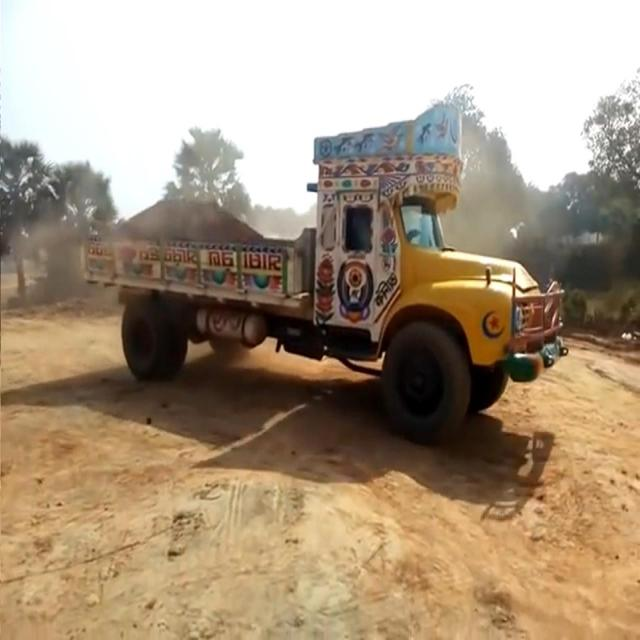truck: (75, 119, 566, 439)
